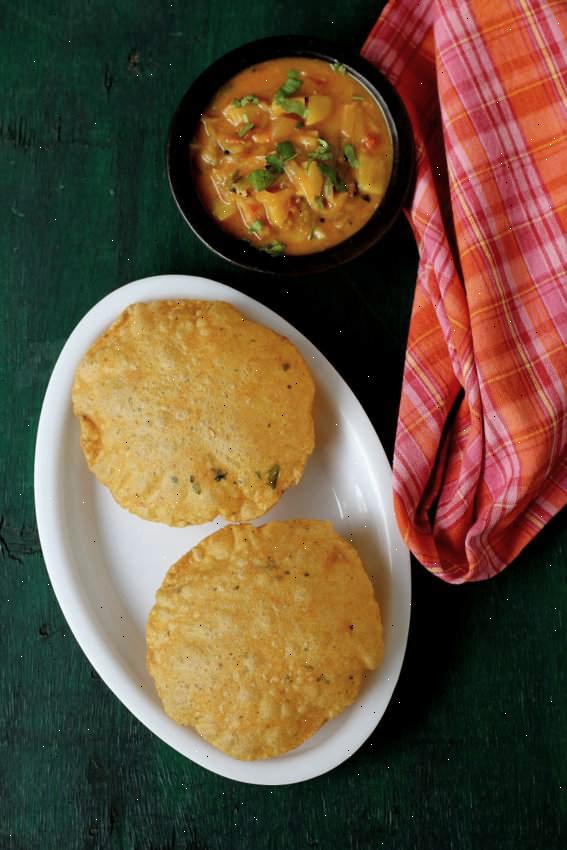puri: (66, 294, 398, 774)
